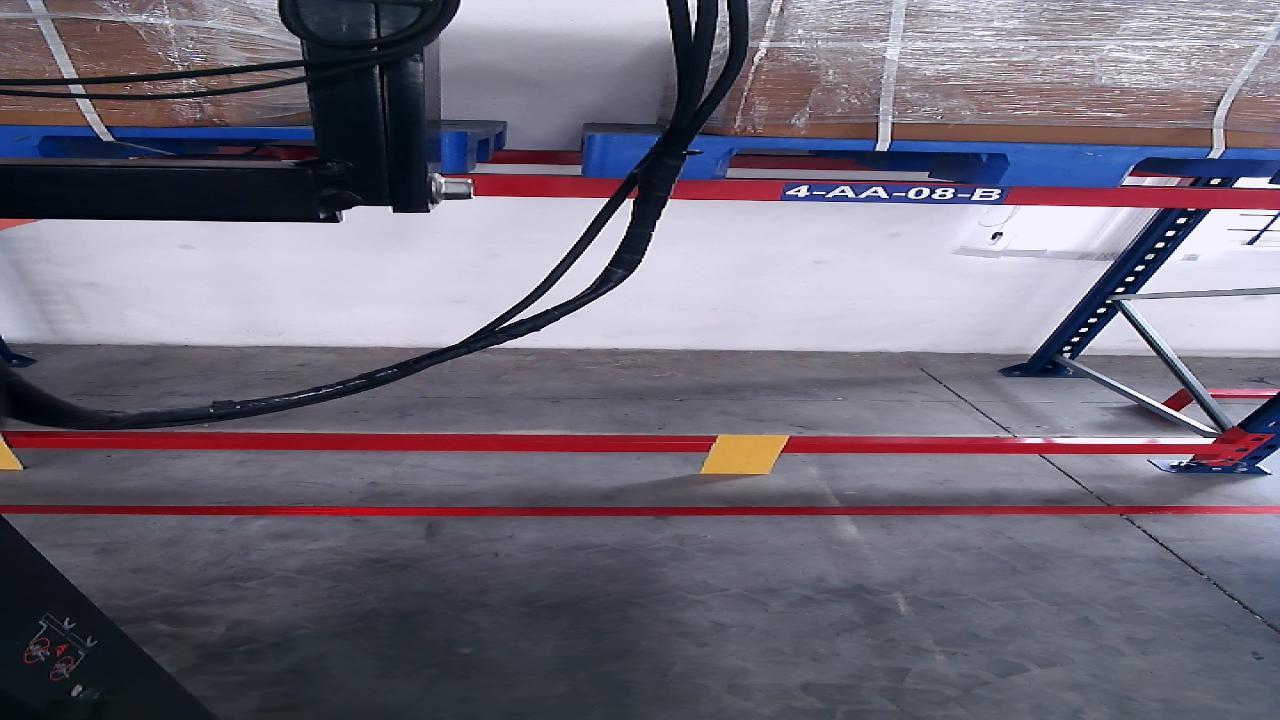h_rack: (472, 176, 1280, 208), (4, 436, 1229, 455)
orange_strip: (701, 434, 787, 474)
red_line: (2, 504, 1278, 514)
small_pallet: (594, 136, 1280, 185), (0, 126, 460, 173)
